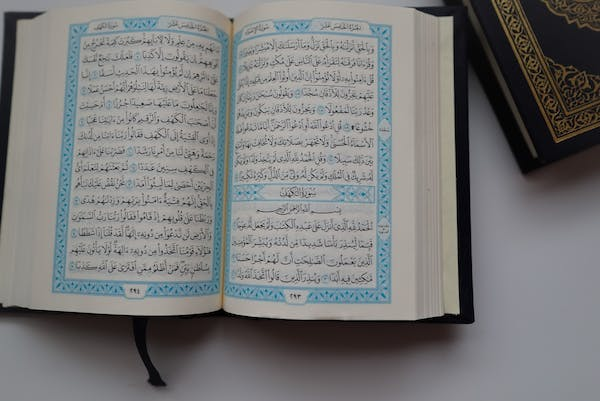book: (8, 4, 478, 330)
